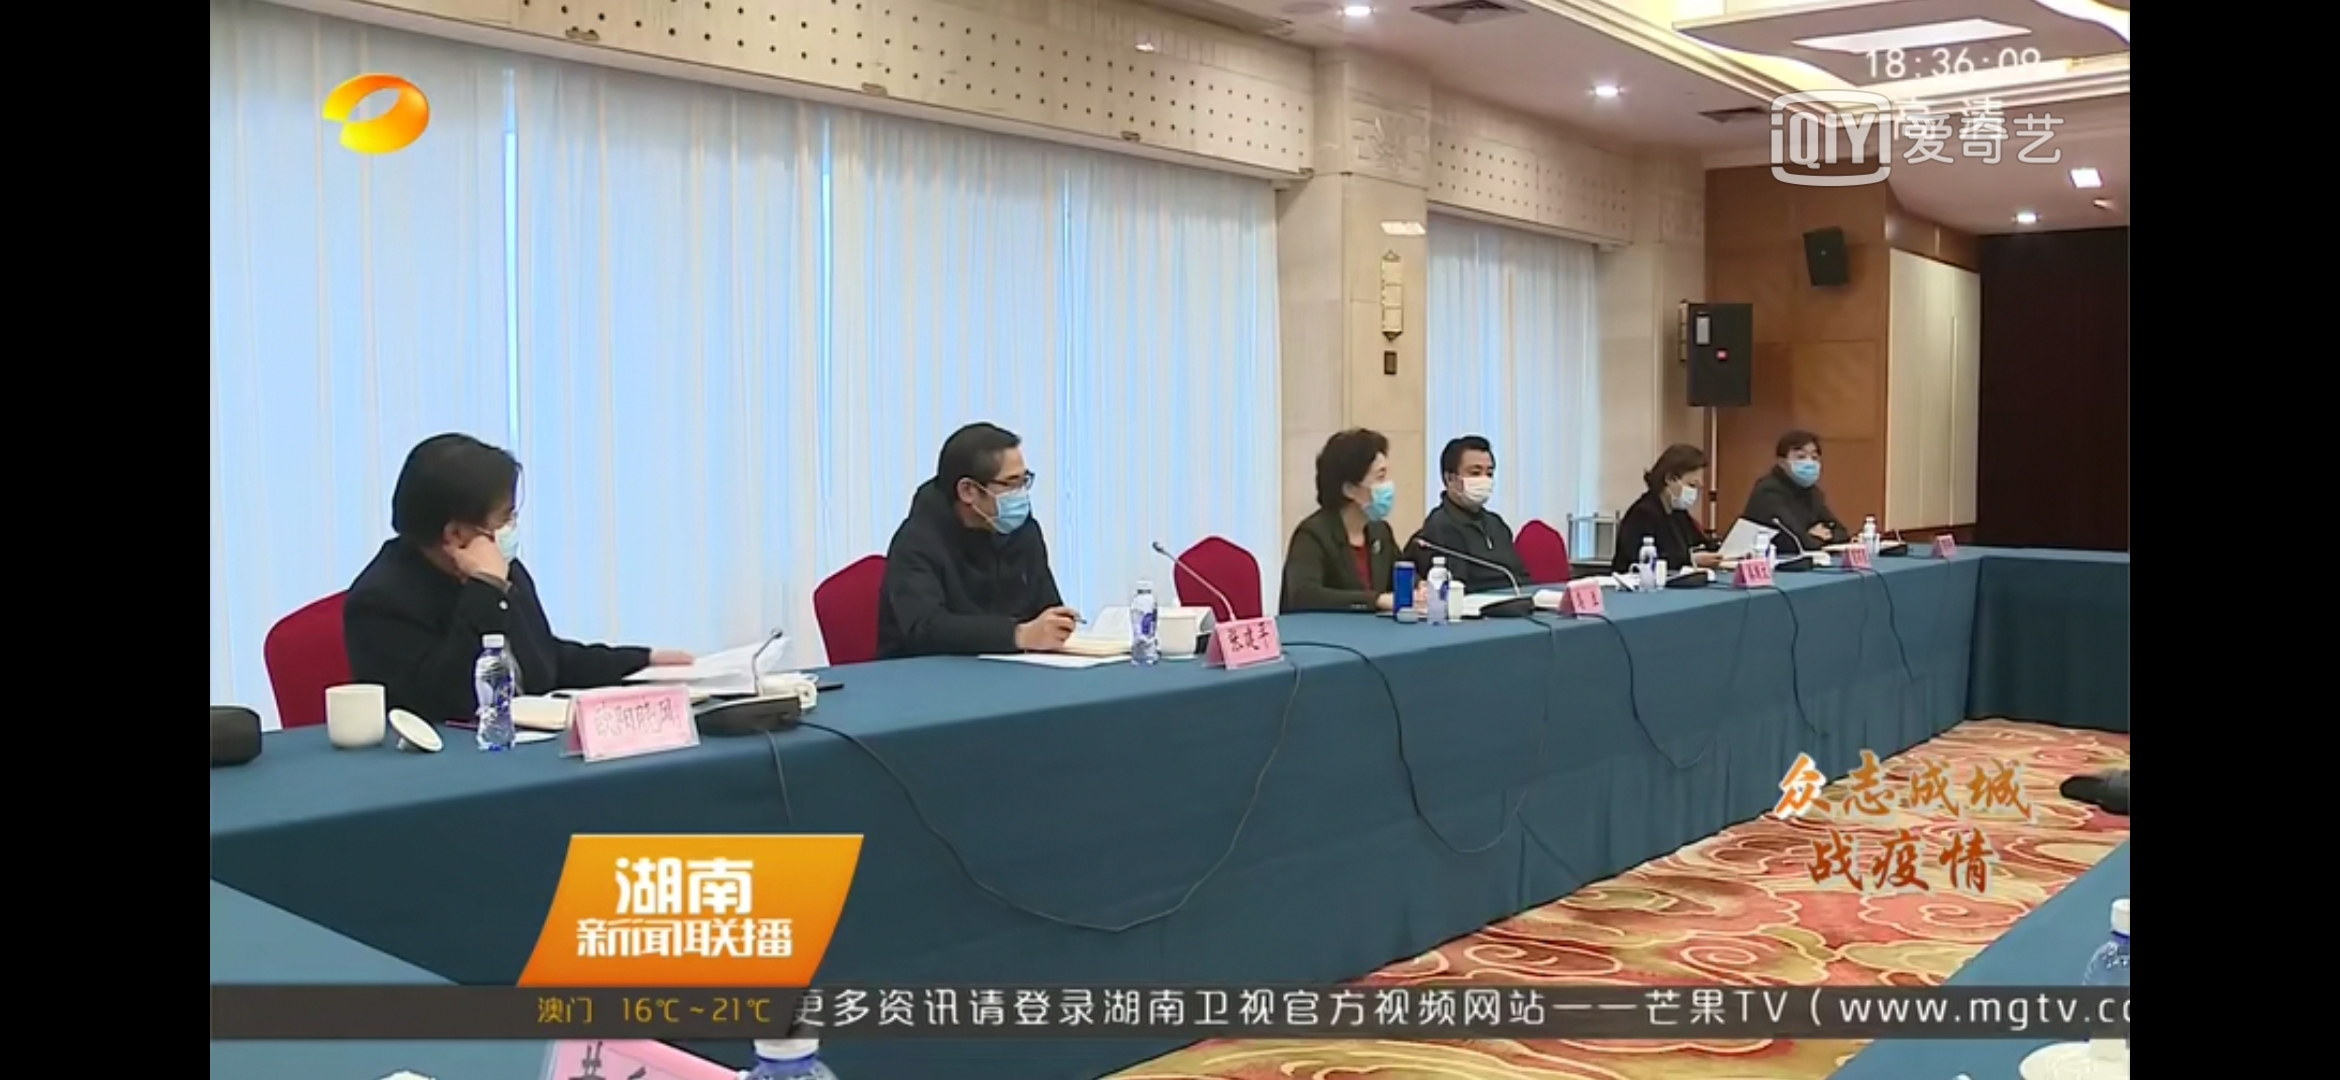correctlyWear: (440, 497, 525, 588), (957, 465, 1039, 536), (1342, 456, 1395, 525), (1442, 458, 1498, 512), (1659, 462, 1707, 509), (1777, 443, 1827, 486)
